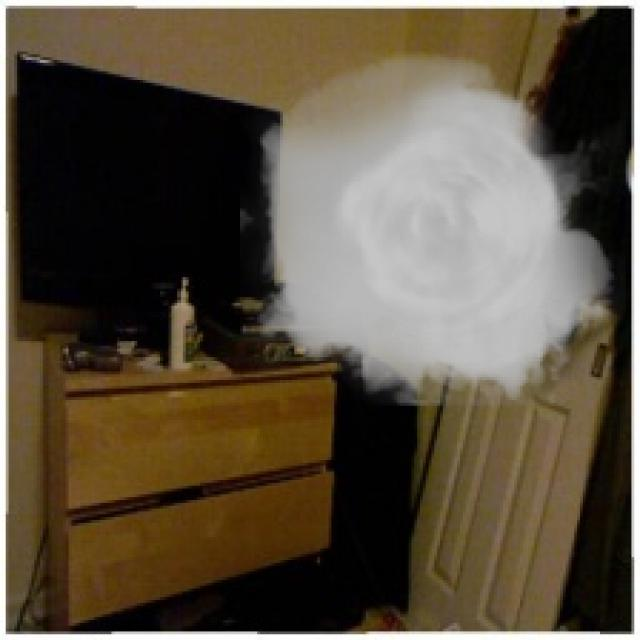smoke: (240, 51, 626, 406)
